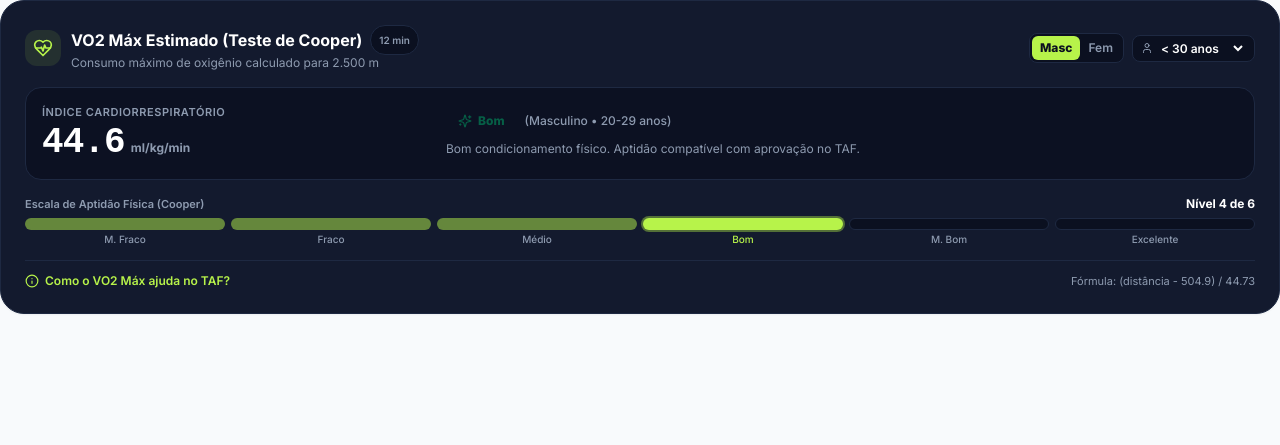
it: CooperVo2MaxCard Component › deve expandir e ocultar a explicação médica ao clicar no botão
Click the button "Como o VO2 Máx ajuda no TAF?".
click(128, 281)  # box [25, 273, 230, 289]
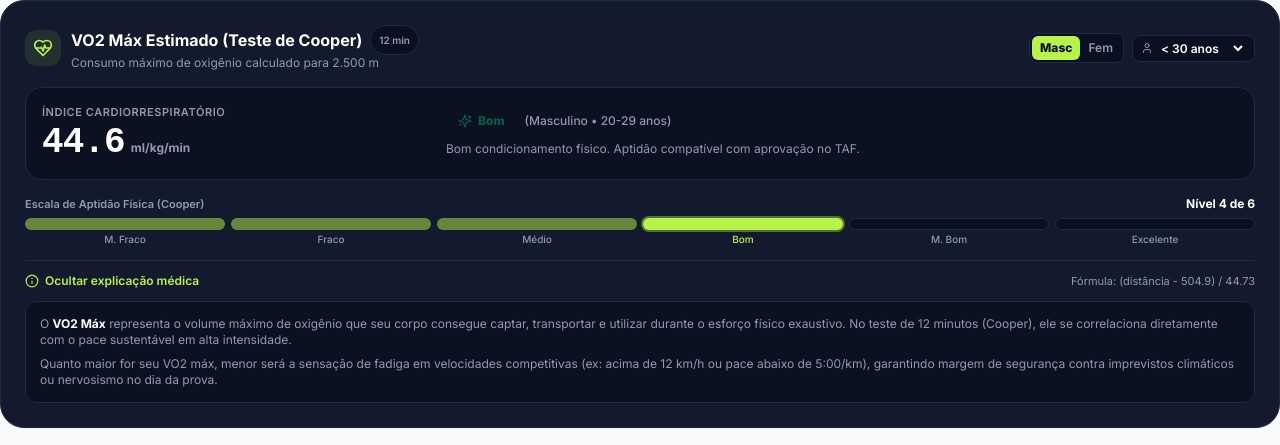
Check: the text "Ocultar explicação médica" is shown, box [45, 273, 199, 289]
Check: the text "representa o volume máximo de oxigênio" is shown, box [40, 316, 1218, 347]
Click the button "Ocultar explicação médica".
click(112, 281)  # box [25, 273, 199, 289]
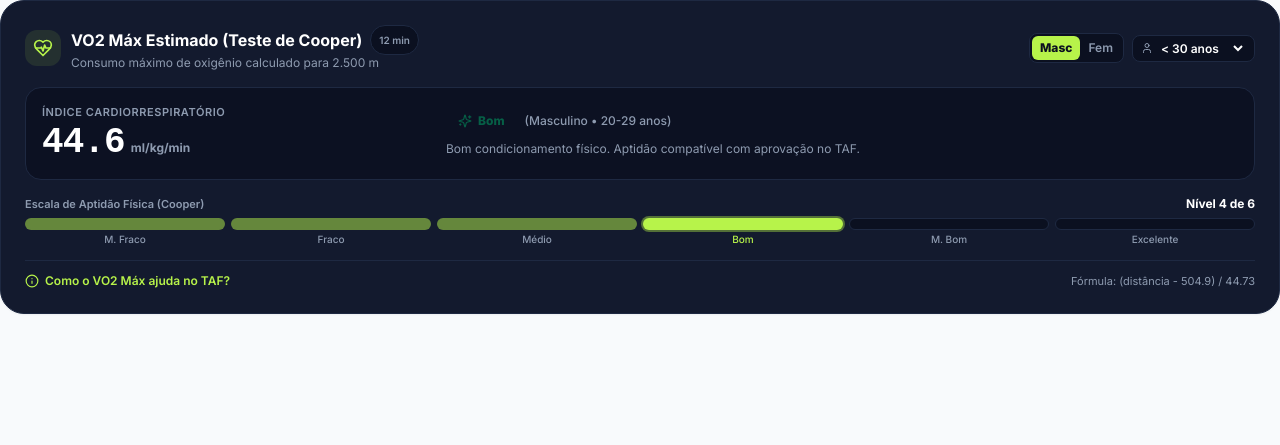
Check: the text "representa o volume máximo de oxigênio" is gone
